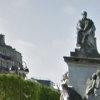Statue: (60, 9, 100, 77)
